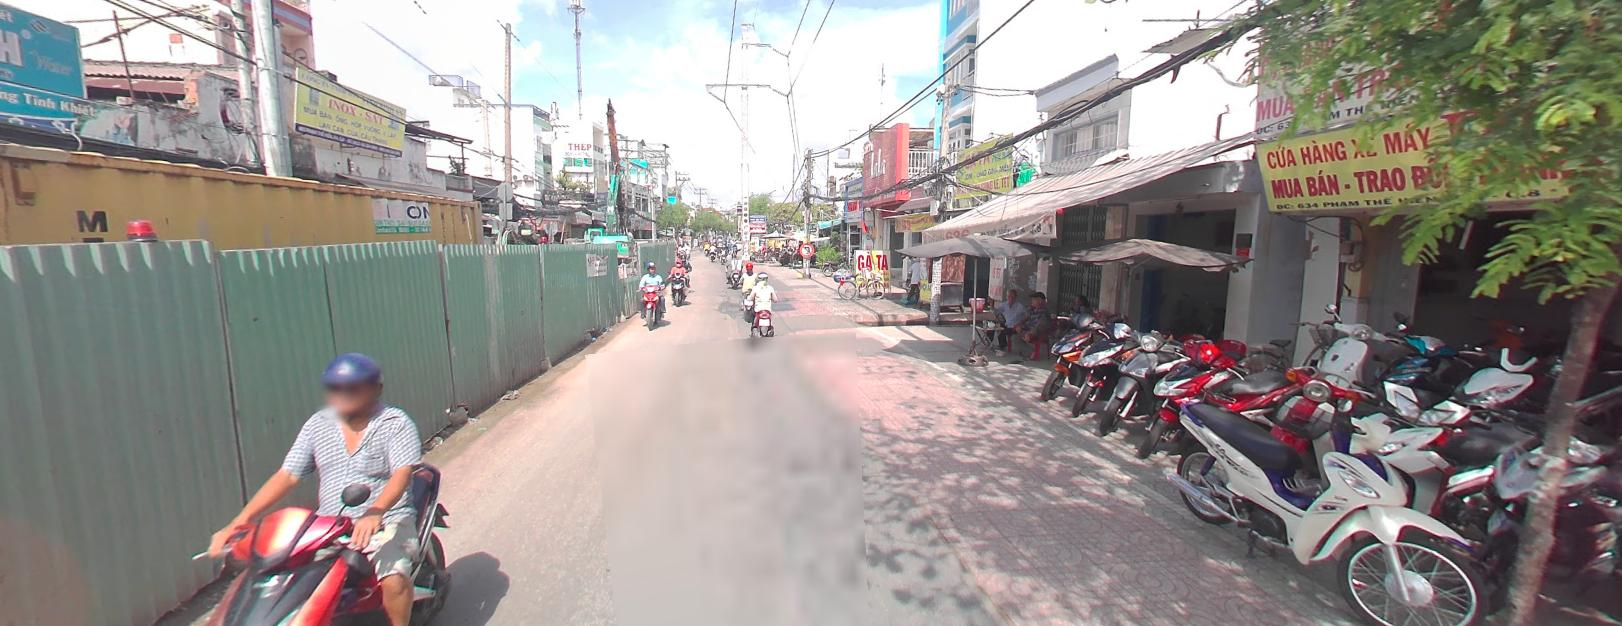Cam re: (800, 242, 814, 256)
